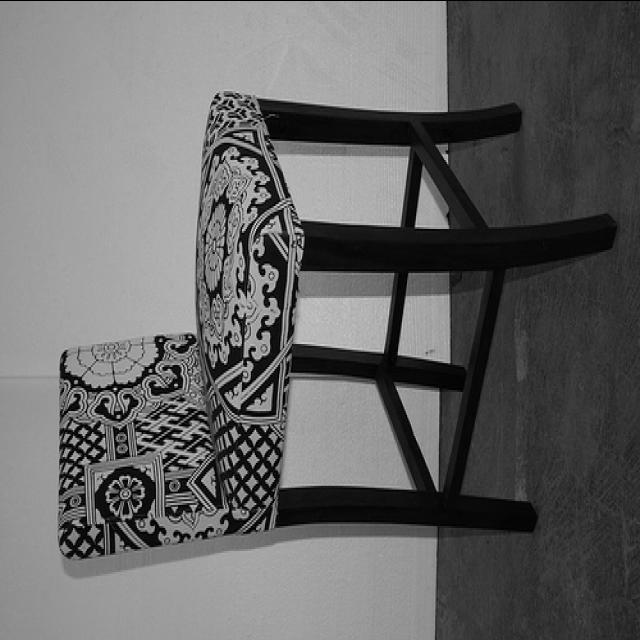chair: (59, 87, 616, 562)
